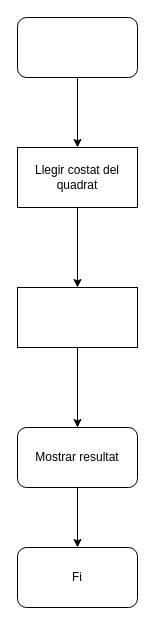
Image size: 155x625. Some labels were removed from this diagram. Each missing label, with the box of its shape:
Calcular àrea: (16, 286, 138, 348)
Inici: (16, 16, 138, 78)
